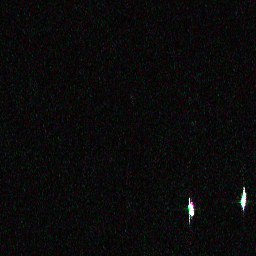ship: (238, 185, 249, 212), (185, 200, 197, 218)
